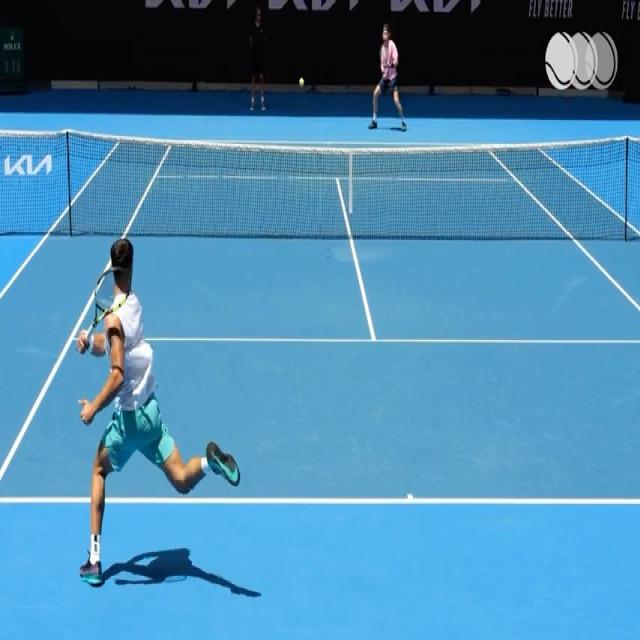forehand-finish: (74, 213, 220, 576)
